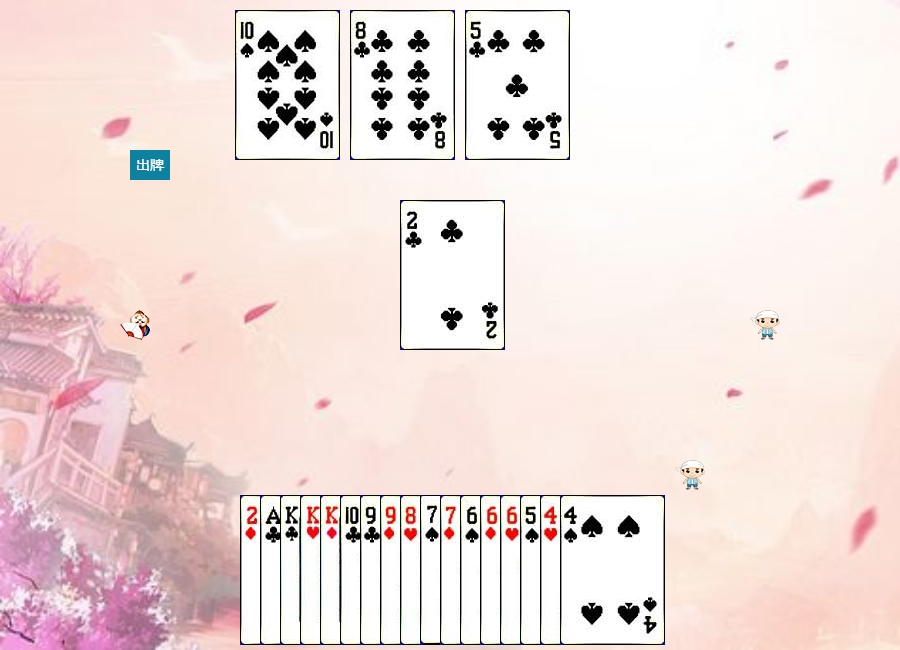10~2: (340, 495, 445, 645)
10~4: (235, 10, 340, 160)
13~1: (320, 495, 425, 645)
13~2: (280, 495, 385, 645)
13~3: (300, 495, 405, 645)
14~2: (260, 495, 365, 645)
15~1: (240, 495, 345, 645)
15~2: (400, 200, 505, 350)
4~3: (540, 495, 645, 645)
4~4: (560, 495, 665, 645)
5~2: (465, 10, 570, 160)
5~4: (520, 495, 625, 645)
6~1: (480, 495, 585, 645)
6~3: (500, 495, 605, 645)
6~4: (460, 495, 565, 645)
7~1: (440, 495, 545, 645)
7~4: (420, 495, 525, 645)
8~2: (350, 10, 455, 160)
8~3: (400, 495, 505, 645)
9~1: (380, 495, 485, 645)
9~2: (360, 495, 465, 645)
